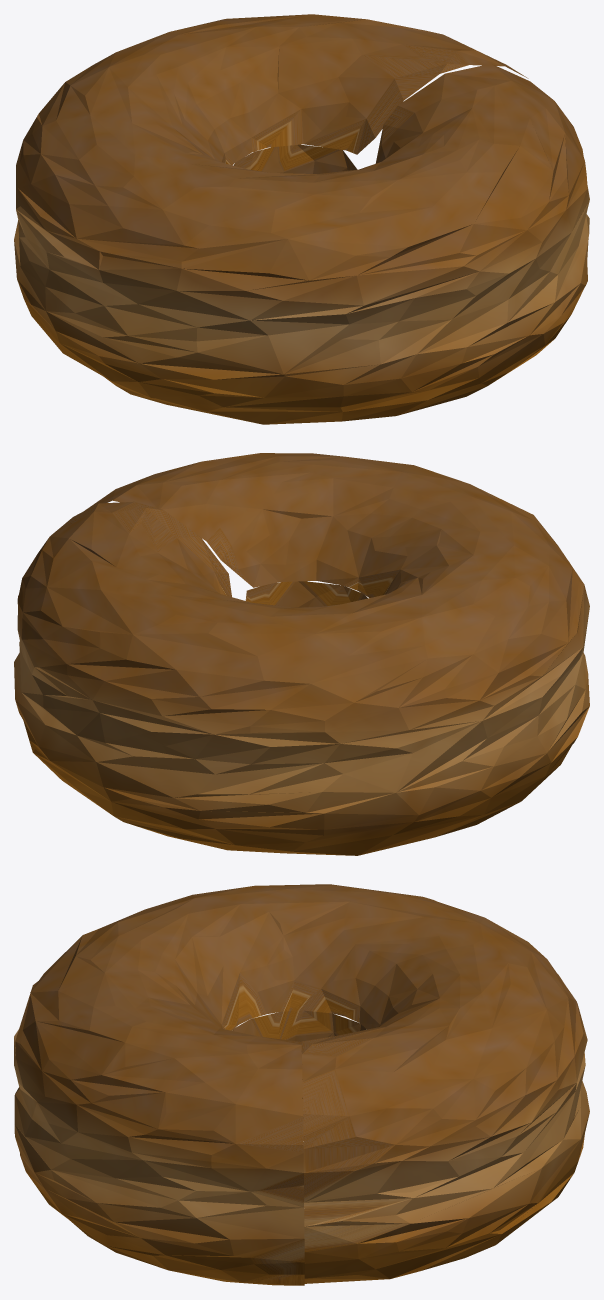
The model's file is food_prepared_donut_i01.glb.
3 renders of one model, top to bottom at view 1: azimuth 30°, elevation 25°; view 2: azimuth 150°, elevation 25°; view 3: azimuth 270°, elevation 25°, orthographic.
Parts seen in each view (by area): view 1: geometry_0; view 2: geometry_0; view 3: geometry_0.
Boxes of the visible parts, x1,y1,x2,y2 form: geometry_0: [14, 14, 589, 424]; geometry_0: [14, 453, 589, 855]; geometry_0: [14, 884, 589, 1285].
Size of the model in its own units: 0.4196 by 0.1844 by 0.42.
Materials: 1 (1 with a texture image).
